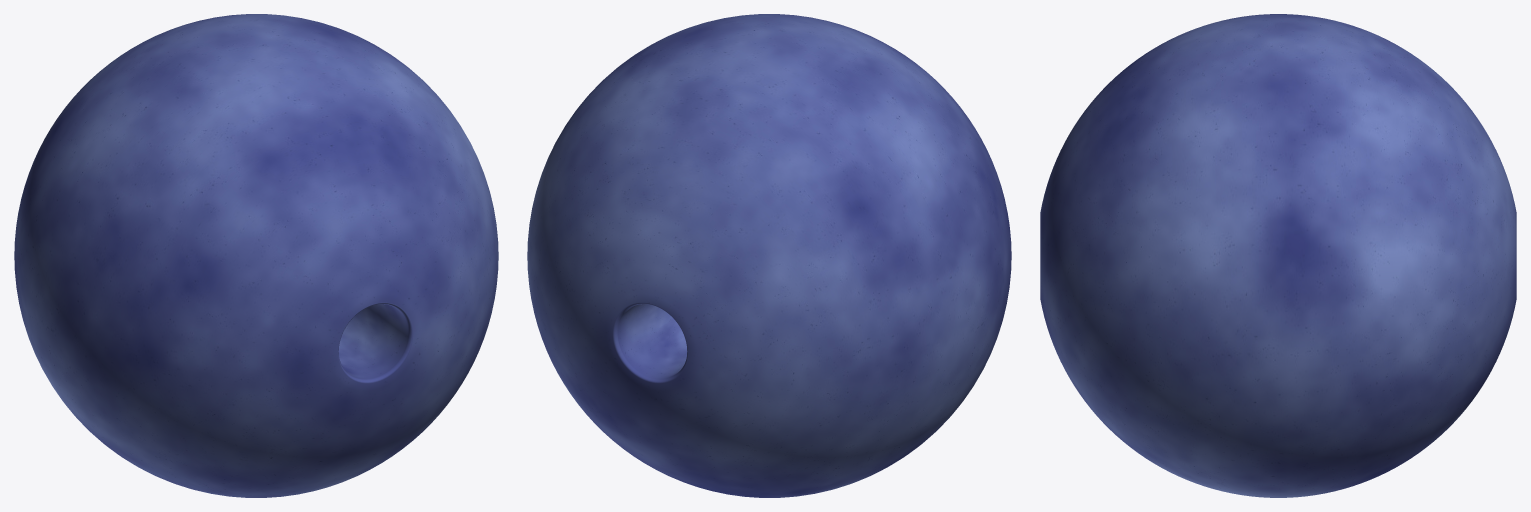
File: tanzanite-6mm.glb
3 views of the same model, side by side, from view 1: azimuth 30°, elevation 25°; view 2: azimuth 150°, elevation 25°; view 3: azimuth 270°, elevation 25° (orthographic).
Visible parts, largest first — view 1: tanzanite.001; view 2: tanzanite.001; view 3: tanzanite.001.
Boxes of the visible parts, <box> form: tanzanite.001: <box>14,14,498,497</box>; tanzanite.001: <box>527,14,1011,497</box>; tanzanite.001: <box>1040,14,1516,497</box>.
Size of the model in its own units: 0.006 by 0.006 by 0.0059.
2 materials, 1 textured.
